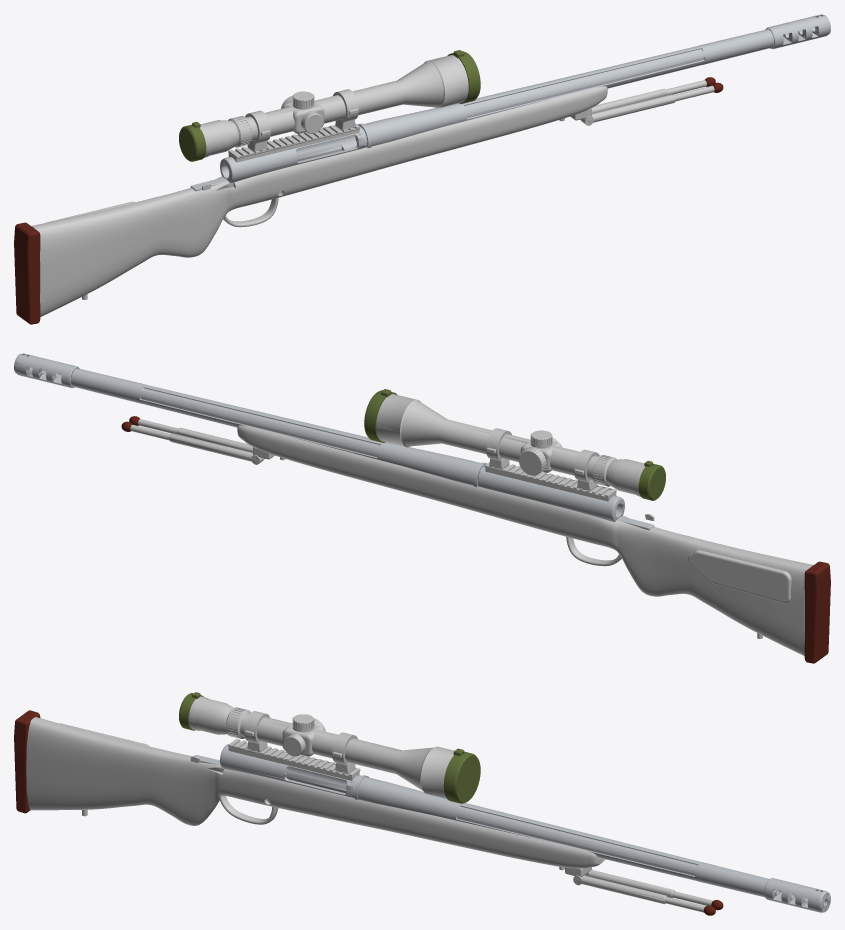
The model's file is corpo.obj.
3 renders of one model, top to bottom at view 1: azimuth 30°, elevation 25°; view 2: azimuth 150°, elevation 25°; view 3: azimuth 330°, elevation 25°, orthographic.
Size of the model in its own units: 5.13 by 0.9908 by 0.284.
